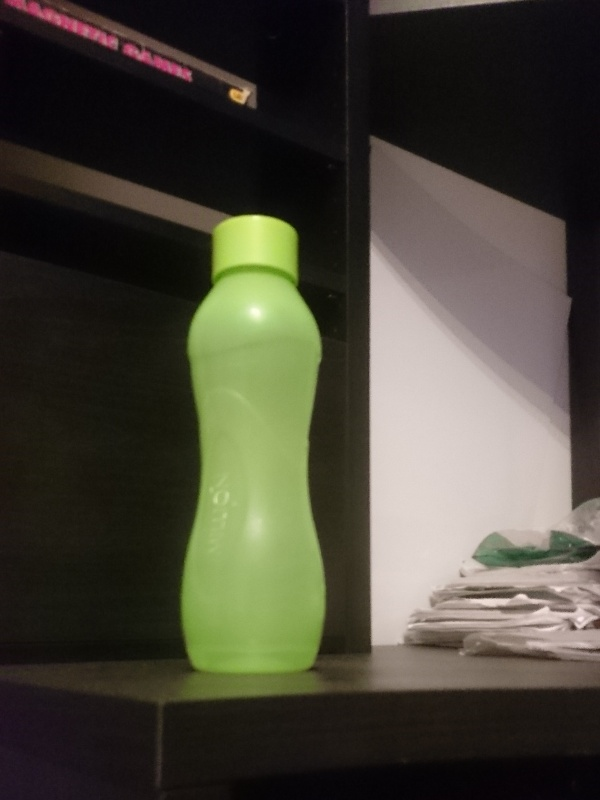my bottle: (179, 216, 326, 677)
